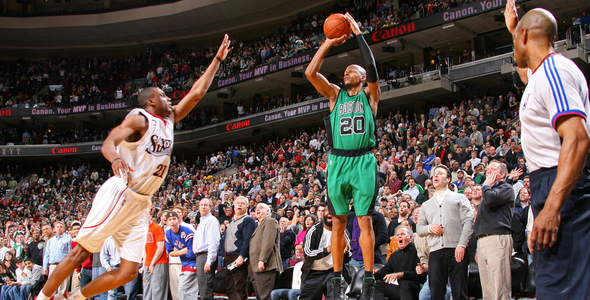Jumpshot: (304, 11, 378, 85)
